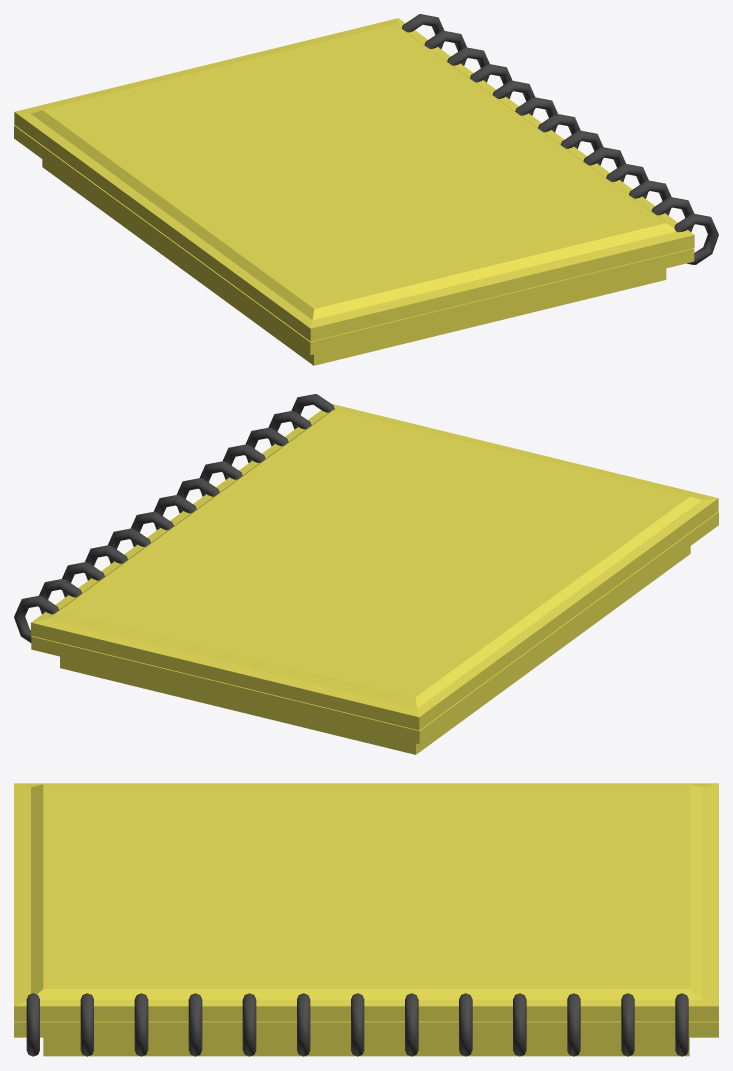
File: LibretaDavid.fbx
3 renders of one model, top to bottom at view 1: azimuth 30°, elevation 25°; view 2: azimuth 150°, elevation 25°; view 3: azimuth 270°, elevation 25°, orthographic. The views are drawn at different scales.
Parts seen in each view (by area): view 1: Libreta, Anillas; view 2: Libreta, Anillas; view 3: Libreta, Anillas.
Boxes of the visible parts, x1,y1,x2,y2 form: Libreta: (14, 18, 694, 365); Anillas: (402, 14, 718, 264); Libreta: (31, 404, 718, 754); Anillas: (14, 394, 334, 642); Libreta: (14, 783, 718, 1056); Anillas: (26, 993, 688, 1056).
Size of the model in its own units: 124 by 18.08 by 153.
